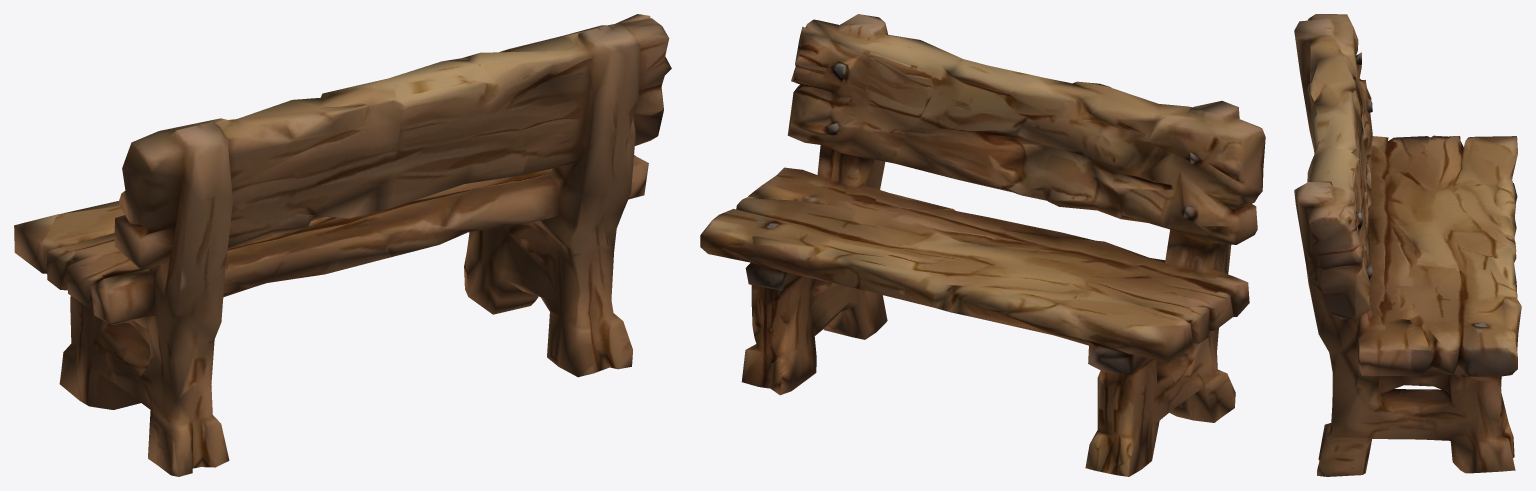
Rendered from env-bench.glb.
The picture shows the model from 3 angles, left to right: view 1: azimuth 30°, elevation 25°; view 2: azimuth 150°, elevation 25°; view 3: azimuth 270°, elevation 25°; orthographic projection. The views are drawn at different scales.
Visible parts, largest first — view 1: tripo_node_4ea5e954-b39a-4683-acdc-7c6138c2545f; view 2: tripo_node_4ea5e954-b39a-4683-acdc-7c6138c2545f; view 3: tripo_node_4ea5e954-b39a-4683-acdc-7c6138c2545f.
Part boxes in pixels (left/top/right/bottom): tripo_node_4ea5e954-b39a-4683-acdc-7c6138c2545f: left=14, top=14, right=671, bottom=476; tripo_node_4ea5e954-b39a-4683-acdc-7c6138c2545f: left=700, top=14, right=1265, bottom=476; tripo_node_4ea5e954-b39a-4683-acdc-7c6138c2545f: left=1294, top=14, right=1521, bottom=476.
Size of the model in its own units: 0.9983 by 0.5988 by 0.443.
Materials: 1 (1 with a texture image).
